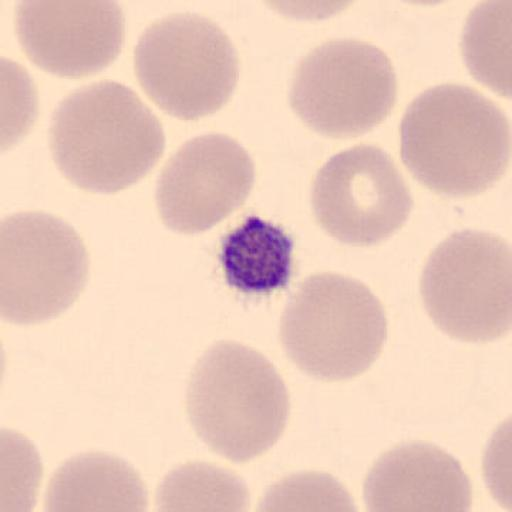Platelet: (215, 212, 298, 298)
RBC: (46, 78, 167, 198), (182, 336, 292, 466), (397, 80, 512, 200), (275, 270, 389, 384), (132, 10, 242, 123), (286, 34, 400, 140), (308, 141, 414, 248), (418, 226, 512, 346), (152, 130, 258, 236), (2, 208, 92, 328), (12, 0, 127, 80), (360, 437, 474, 512), (38, 447, 150, 512), (149, 458, 252, 512), (459, 0, 512, 100), (250, 468, 364, 512), (1, 54, 40, 156), (0, 424, 43, 512), (480, 412, 512, 512), (247, 0, 369, 23)
